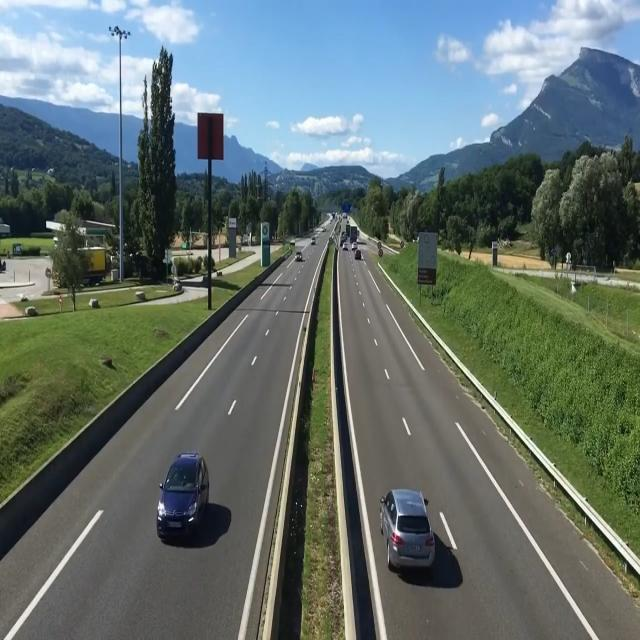car: (164, 454, 212, 544), (294, 251, 304, 266), (354, 248, 362, 261)
truck: (381, 487, 443, 579)
